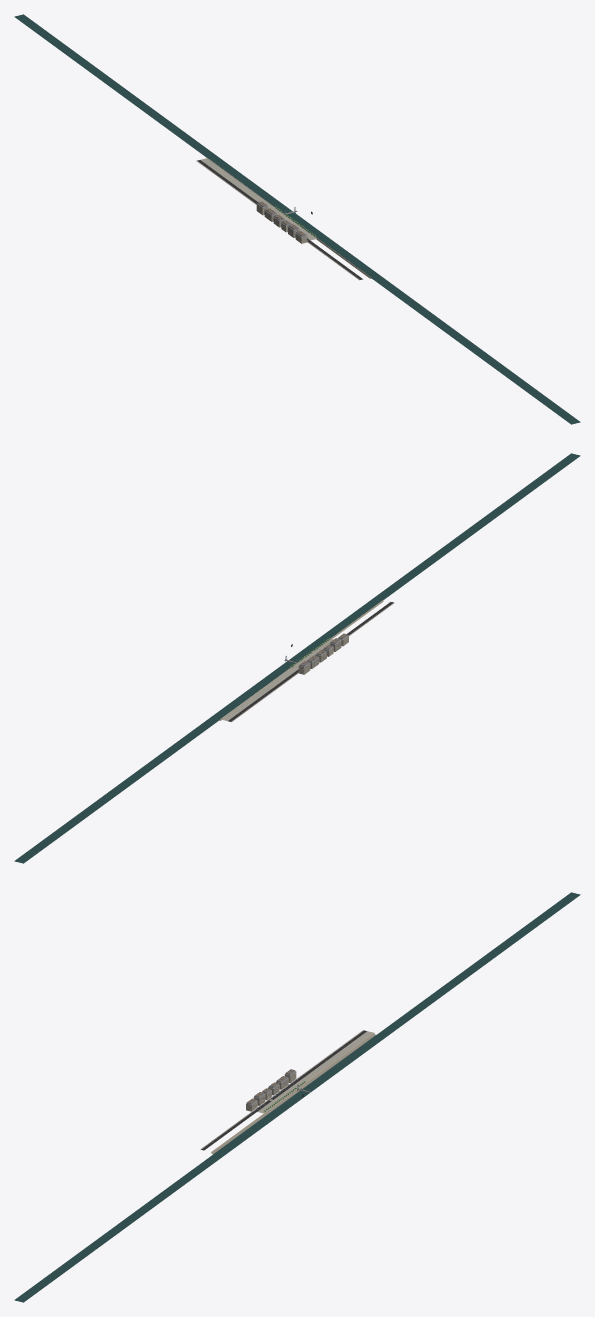
File: lugar-lyon.glb
3 views of the same model, one above another, from view 1: azimuth 30°, elevation 25°; view 2: azimuth 150°, elevation 25°; view 3: azimuth 330°, elevation 25° (orthographic).
Parts seen in each view (by area): view 1: planoE, luzG-cerca, luzE; view 2: planoE, luzG-cerca, luzE; view 3: planoE, luzG-cerca, luzE.
Part boxes in pixels (x1,y1,x2,y2): planoE: [14, 14, 580, 424]; luzG-cerca: [196, 158, 371, 280]; luzE: [207, 158, 370, 278]; planoE: [14, 453, 580, 863]; luzG-cerca: [219, 602, 394, 722]; luzE: [220, 600, 383, 720]; planoE: [14, 892, 580, 1302]; luzG-cerca: [200, 1030, 375, 1153]; luzE: [211, 1032, 375, 1154].
Size of the model in its own units: 97.9 by 30.2 by 2800.
22 materials, 11 textured.
